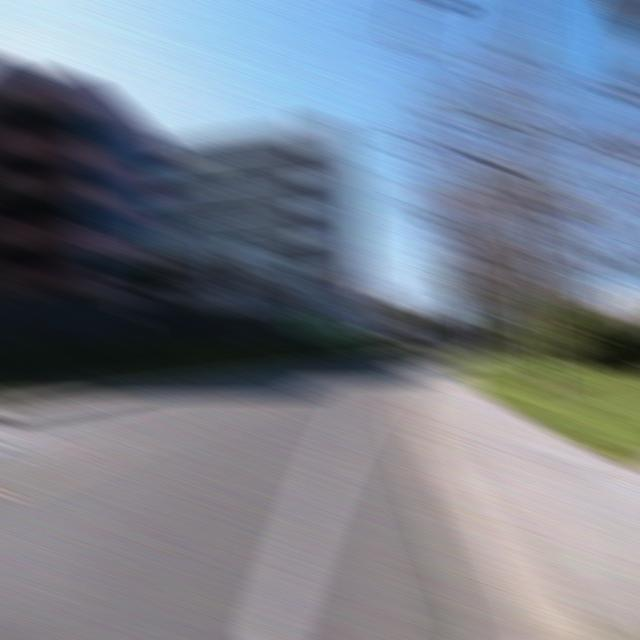speedLimit35: (462, 292, 499, 330)
